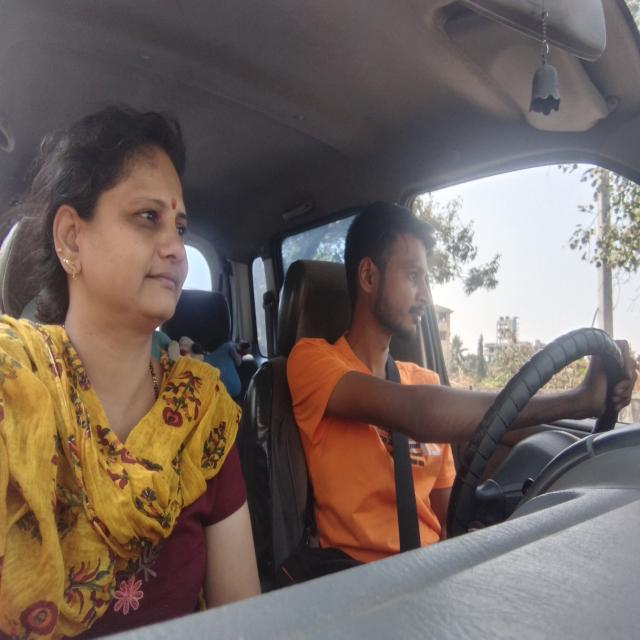person: (45, 106, 195, 341), (341, 197, 438, 348)
